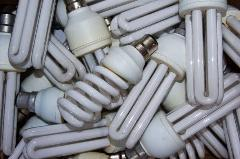lightbulb: (1, 0, 239, 159), (55, 0, 111, 57), (102, 34, 158, 84), (138, 110, 186, 158)
